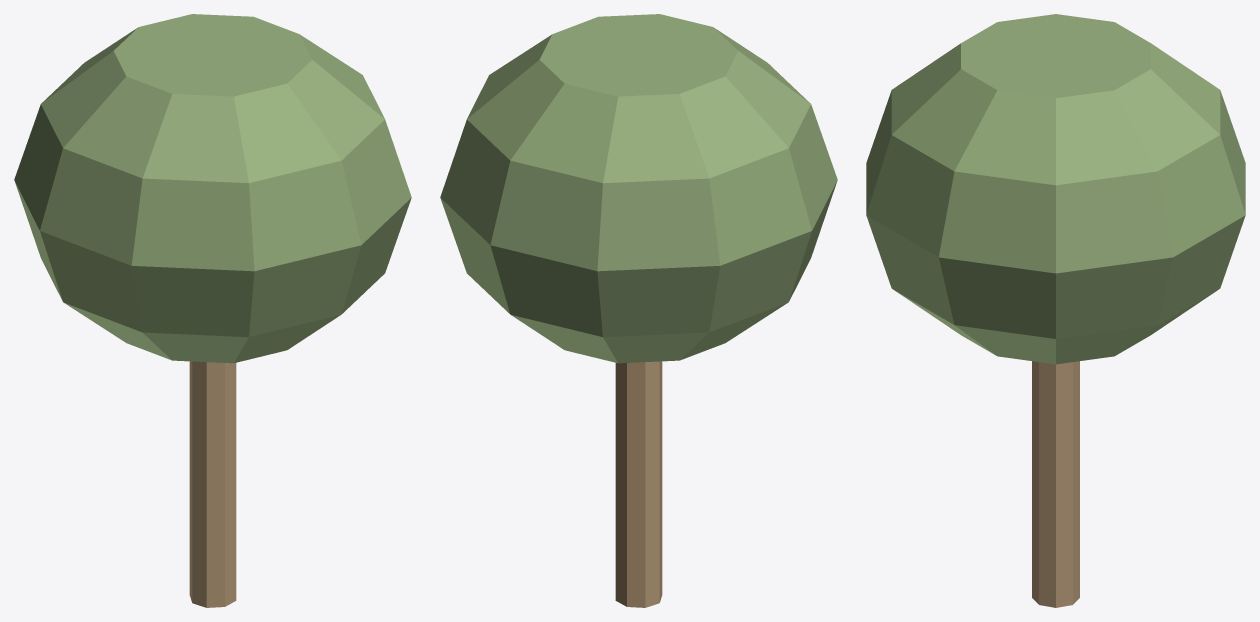
The model's file is oak-arch-8.glb.
3 views of the same model, side by side, from view 1: azimuth 30°, elevation 25°; view 2: azimuth 150°, elevation 25°; view 3: azimuth 270°, elevation 25° (orthographic).
Visible parts, largest first — view 1: living roof, timber; view 2: living roof, timber; view 3: living roof, timber.
Part boxes in pixels (x1=…): living roof: x1=14, y1=14, x2=411, y2=363; timber: x1=189, y1=361, x2=236, y2=607; living roof: x1=440, y1=14, x2=837, y2=363; timber: x1=615, y1=361, x2=662, y2=607; living roof: x1=866, y1=14, x2=1245, y2=364; timber: x1=1032, y1=361, x2=1079, y2=607.
Bounding box in the file's own units: 7.54 × 11.73 × 7.17.
